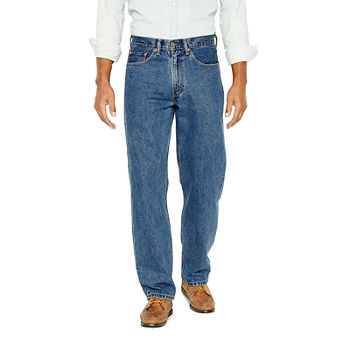jeans: (123, 33, 225, 299)
